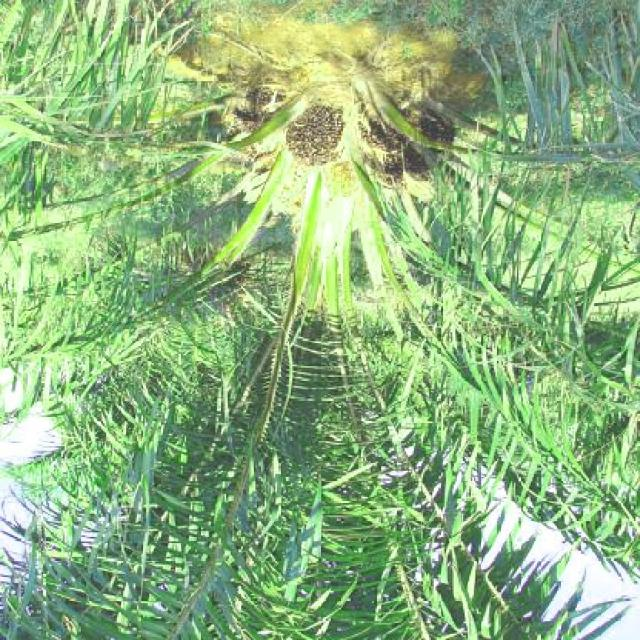palm-oil: (282, 102, 344, 166)
